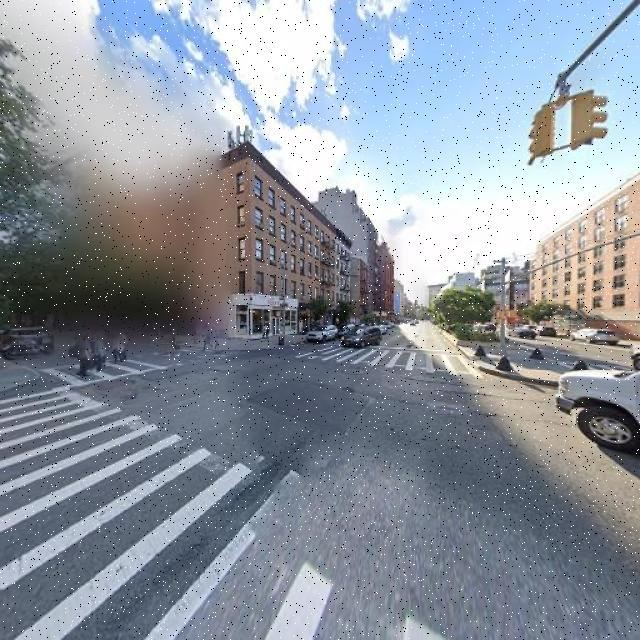Building: (165, 143, 352, 340), (525, 179, 640, 342)
